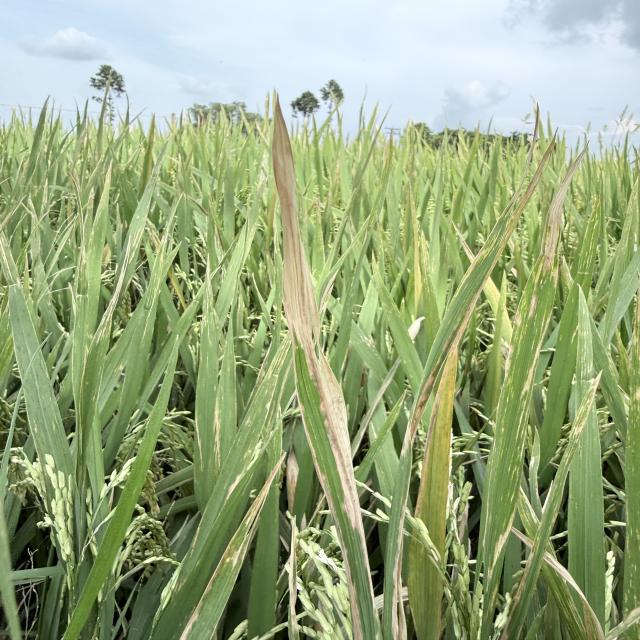Chay bia la: (271, 91, 366, 535)
